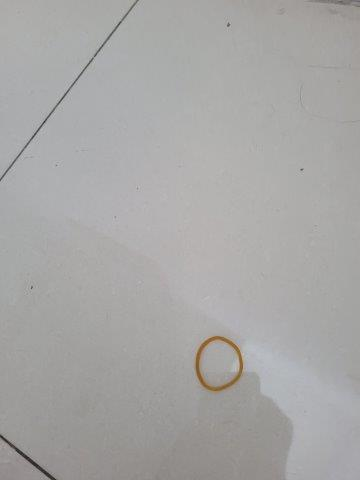karet: (194, 337, 243, 392)
